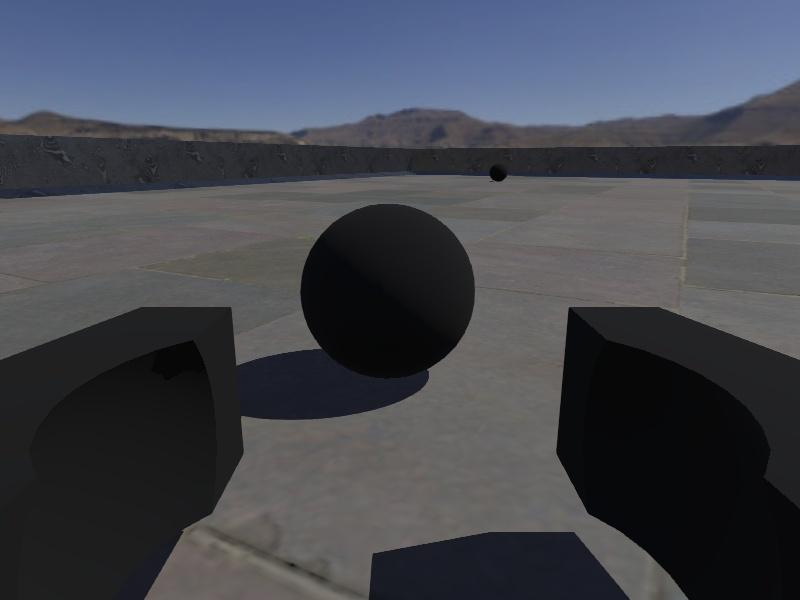black ball: (299, 202, 477, 381), (488, 162, 508, 182)
